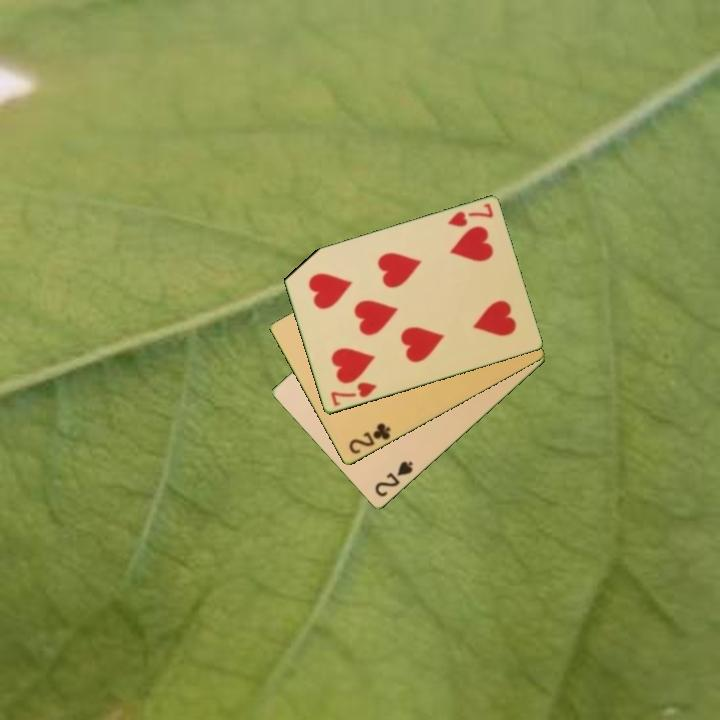2c: (345, 420, 394, 457)
2s: (371, 458, 416, 500)
7h: (327, 379, 379, 409), (444, 200, 496, 230)
